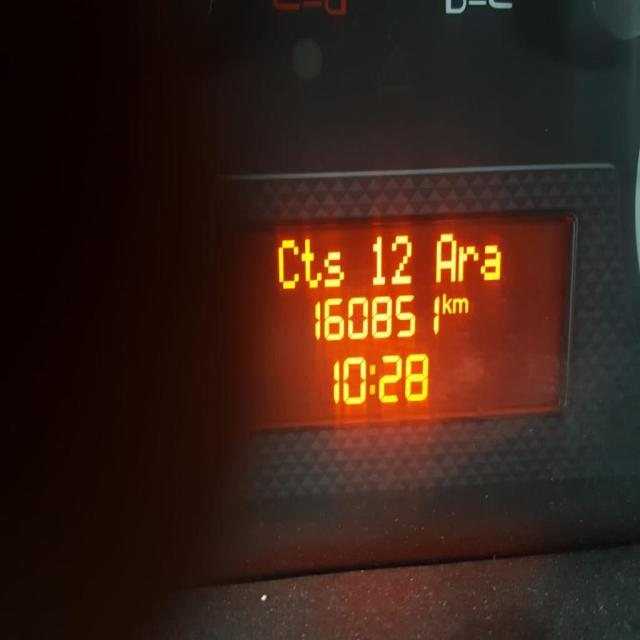odometer: (212, 203, 577, 439)
